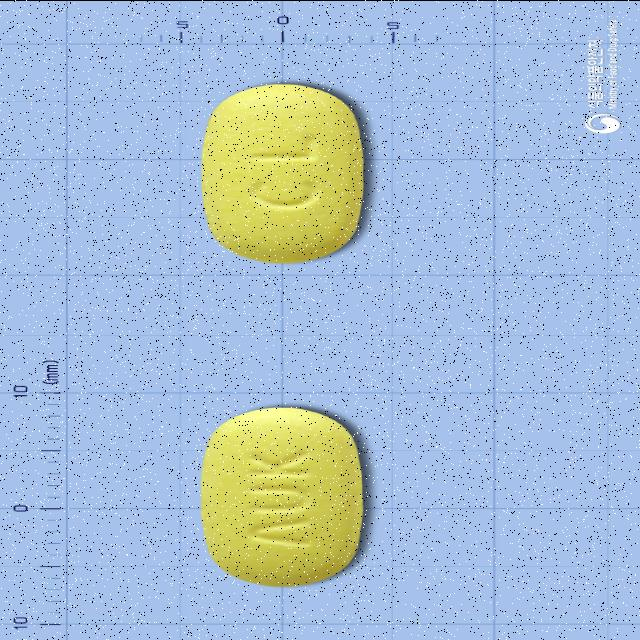Auscle - 500mg: (194, 403, 372, 590)
